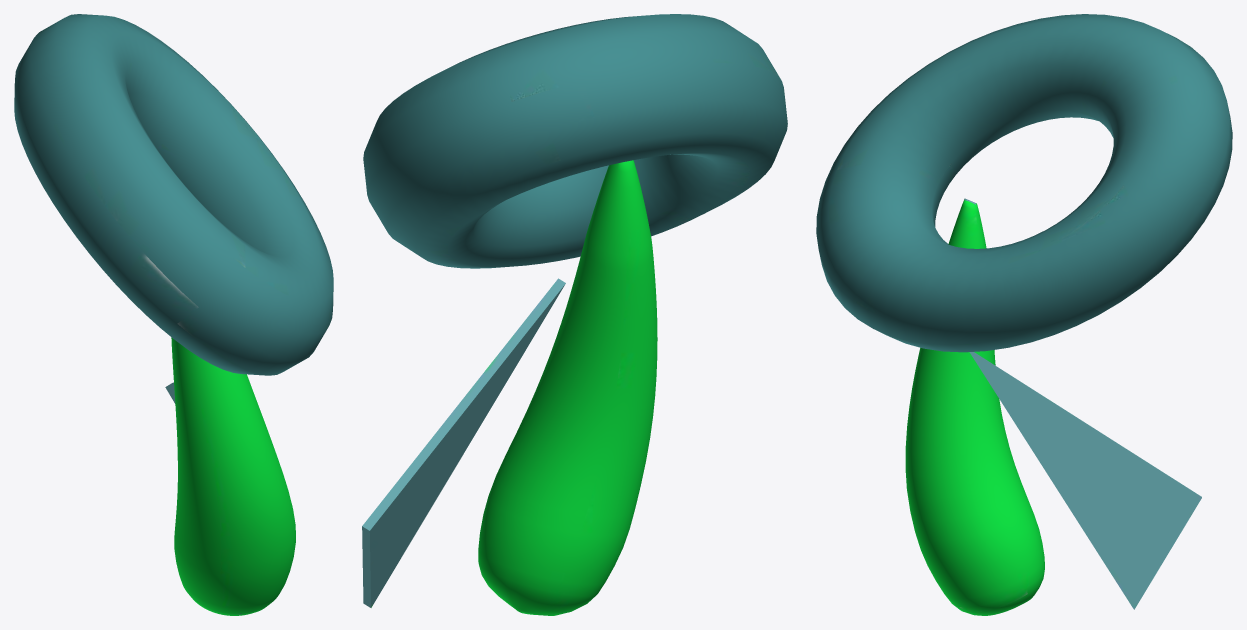
3 views of the same model, side by side, from view 1: azimuth 30°, elevation 25°; view 2: azimuth 150°, elevation 25°; view 3: azimuth 270°, elevation 25° (orthographic). The views are drawn at different scales.
Visible parts, largest first — view 1: R; view 2: R; view 3: R.
Part boxes in pixels (<box>): R: <box>14,14,333,615</box>; R: <box>362,14,787,615</box>; R: <box>816,14,1232,615</box>.
Size of the model in its own units: 0.6812 by 1.37 by 0.9455.
1 material, 1 textured.
